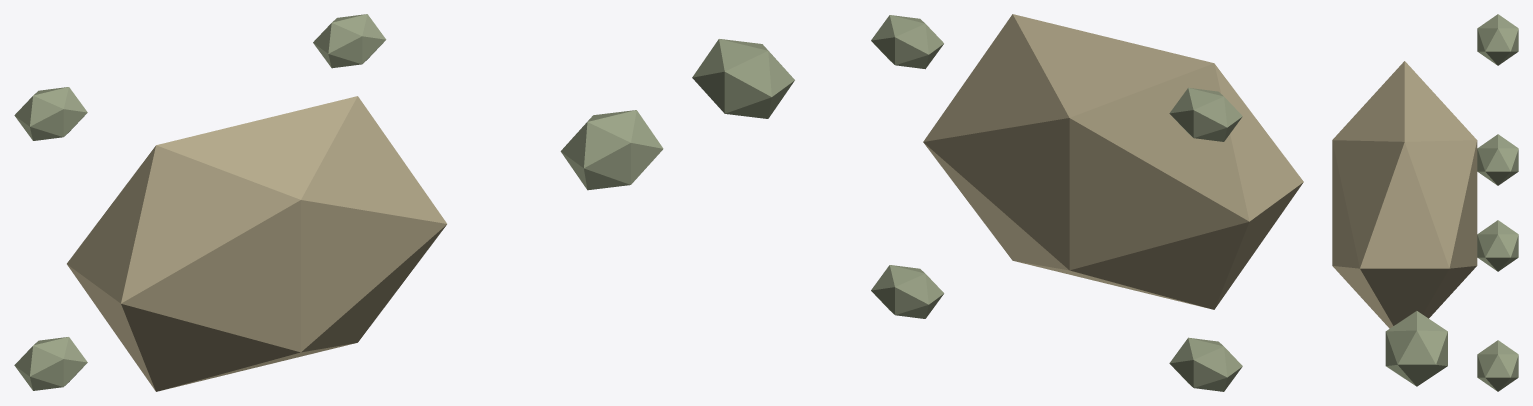
The model's file is desert_tortoise.glb.
3 views of the same model, side by side, from view 1: azimuth 30°, elevation 25°; view 2: azimuth 150°, elevation 25°; view 3: azimuth 270°, elevation 25° (orthographic). The views are drawn at different scales.
Visible parts, largest first — view 1: world; view 2: world; view 3: world.
Part boxes in pixels (x1,y1,x2,y2): world: (14, 14, 663, 391); world: (692, 14, 1303, 391); world: (1332, 14, 1518, 391).
Size of the model in its own units: 1.36 by 0.6621 by 0.4597.
